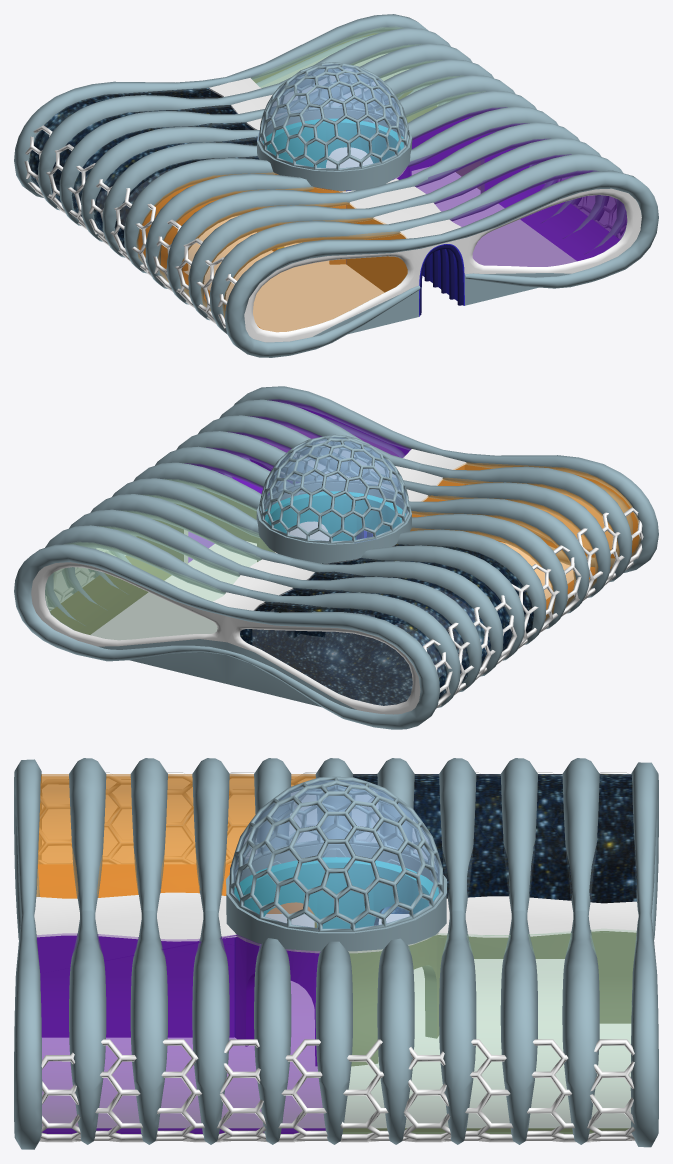
File: VR building5(1).fbx
3 renders of one model, top to bottom at view 1: azimuth 30°, elevation 25°; view 2: azimuth 150°, elevation 25°; view 3: azimuth 270°, elevation 25°, orthographic. The views are drawn at different scales.
Parts seen in each view (by area): view 1: Spines.001, Front Back facade, Ceiling glass walls, Spine Front.001, Dome glass, Dome wireframe, Spine Back.002, HoneyComb, Exterior white walls, Center circular room, Front hallway Walls.001, Front hallway Arch.001 (+3 smaller); view 2: Spines.001, Front Back facade, Ceiling glass walls, Spine Back.002, Dome glass, Spine Front.001, Dome wireframe, HoneyComb, Exterior white walls, Center circular room, Interior Walls.001, Interior Walls.002; view 3: Ceiling glass walls, Spines.001, Dome glass, HoneyComb, Center circular room, Dome wireframe, Spine Front.001, Spine Back.002, Exterior white walls, Front hallway Walls.001, Interior Walls.
Boxes of the visible parts, left/top/right/bottom form: Spines.001: left=38, top=28, right=626, bottom=334; Front Back facade: left=34, top=33, right=641, bottom=342; Ceiling glass walls: left=29, top=26, right=626, bottom=317; Spine Front.001: left=224, top=170, right=658, bottom=357; Dome glass: left=257, top=64, right=412, bottom=190; Dome wireframe: left=258, top=62, right=409, bottom=170; Spine Back.002: left=14, top=14, right=429, bottom=198; HoneyComb: left=24, top=125, right=626, bottom=328; Exterior white walls: left=75, top=105, right=619, bottom=328; Center circular room: left=262, top=118, right=409, bottom=264; Front hallway Walls.001: left=346, top=204, right=407, bottom=292; Front hallway Arch.001: left=419, top=244, right=462, bottom=315; Spines.001: left=45, top=399, right=632, bottom=707; Front Back facade: left=31, top=407, right=638, bottom=714; Ceiling glass walls: left=45, top=399, right=640, bottom=698; Spine Back.002: left=14, top=544, right=439, bottom=729; Dome glass: left=256, top=437, right=411, bottom=563; Spine Front.001: left=234, top=386, right=658, bottom=572; Dome wireframe: left=259, top=434, right=409, bottom=543; HoneyComb: left=45, top=476, right=643, bottom=708; Exterior white walls: left=50, top=477, right=611, bottom=686; Center circular room: left=259, top=491, right=405, bottom=636; Interior Walls.001: left=136, top=488, right=258, bottom=564; Interior Walls.002: left=398, top=557, right=532, bottom=642; Ceiling glass walls: left=34, top=774, right=638, bottom=1133; Spines.001: left=69, top=758, right=599, bottom=1144; Dome glass: left=226, top=780, right=446, bottom=951; HoneyComb: left=38, top=772, right=634, bottom=1142; Center circular room: left=234, top=857, right=444, bottom=1066; Dome wireframe: left=229, top=776, right=443, bottom=931; Spine Front.001: left=14, top=759, right=42, bottom=1149; Spine Back.002: left=630, top=762, right=658, bottom=1147; Exterior white walls: left=38, top=864, right=631, bottom=1133; Front hallway Walls.001: left=37, top=935, right=234, bottom=1037; Interior Walls: left=444, top=931, right=636, bottom=1023.
Size of the model in its own units: 3000 by 1129 by 2719.
